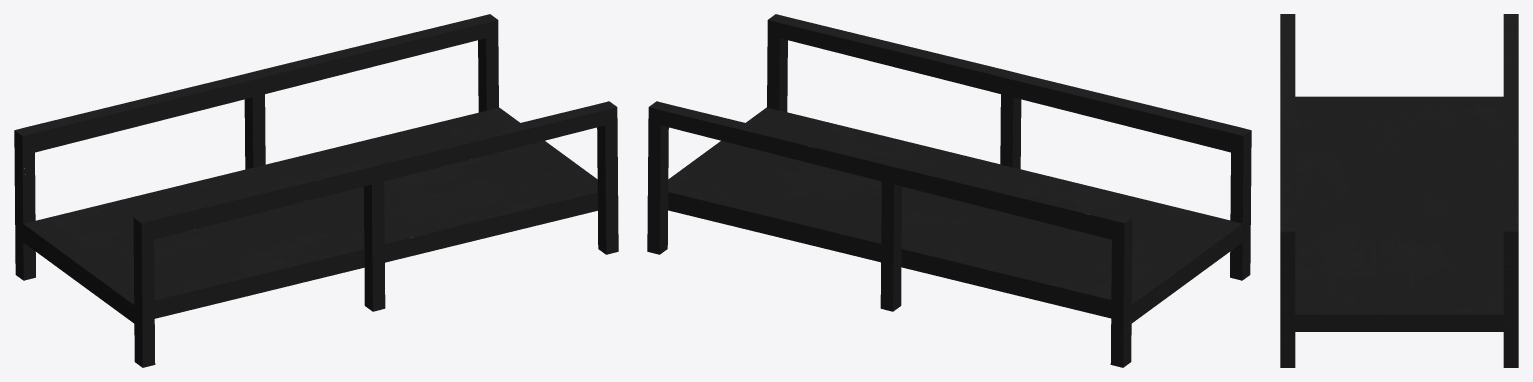
Rendered from Roofmiddle.fbx.
The picture shows the model from 3 angles, left to right: view 1: azimuth 30°, elevation 25°; view 2: azimuth 150°, elevation 25°; view 3: azimuth 270°, elevation 25°; orthographic projection. The views are drawn at different scales.
Parts seen in each view (by area): view 1: Cube.008; view 2: Cube.008; view 3: Cube.008.
Part boxes in pixels (box(x1,y1,x2,y2)): Cube.008: box(14, 14, 618, 367); Cube.008: box(647, 14, 1251, 367); Cube.008: box(1280, 14, 1518, 367).
Size of the model in its own units: 242 by 70.23 by 112.
1 material, 1 textured.
